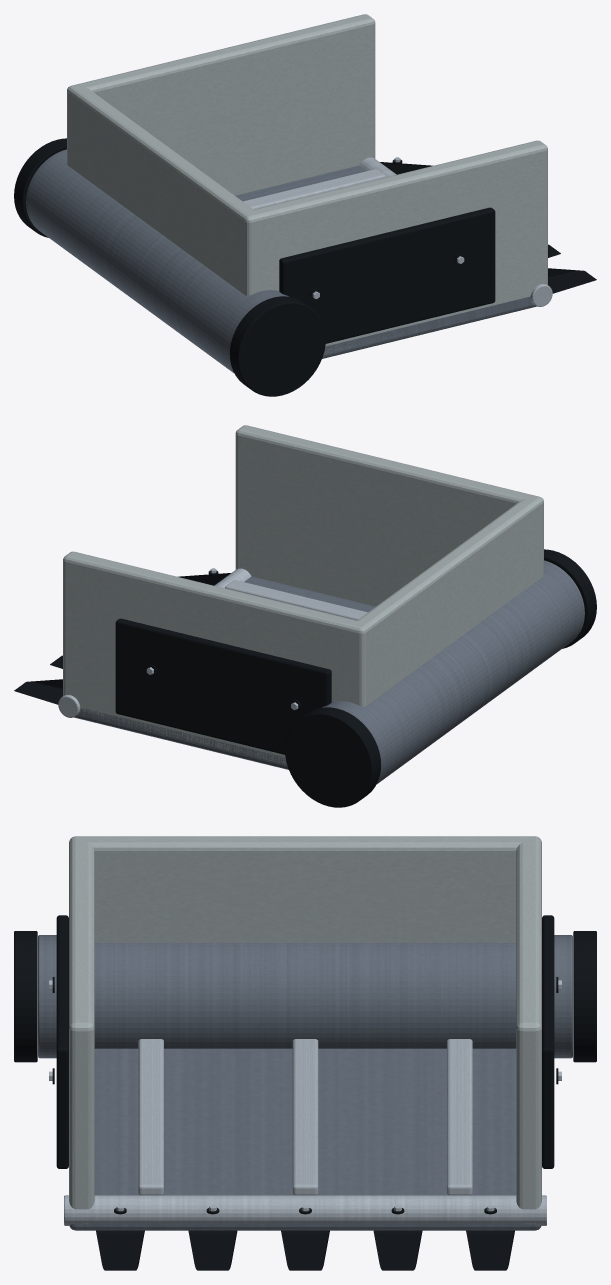
File: bucket.glb
3 views of the same model, one above another, from view 1: azimuth 30°, elevation 25°; view 2: azimuth 150°, elevation 25°; view 3: azimuth 270°, elevation 25° (orthographic). The views are drawn at different scales.
Visible parts, largest first — view 1: bucket; view 2: bucket; view 3: bucket.
Part boxes in pixels (x1=…): bucket: x1=14, y1=14, x2=596, y2=396; bucket: x1=14, y1=425, x2=596, y2=807; bucket: x1=14, y1=836, x2=596, y2=1270.
Bounding box in the file's own units: 0.5728 × 0.229 × 0.567.
4 materials, 4 textured.
